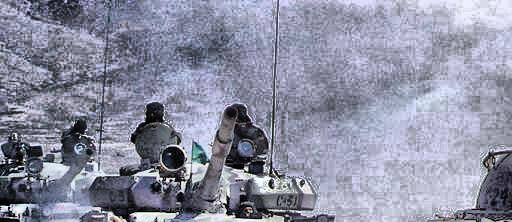tanks: (80, 109, 336, 222), (1, 123, 103, 222), (428, 149, 512, 222)
